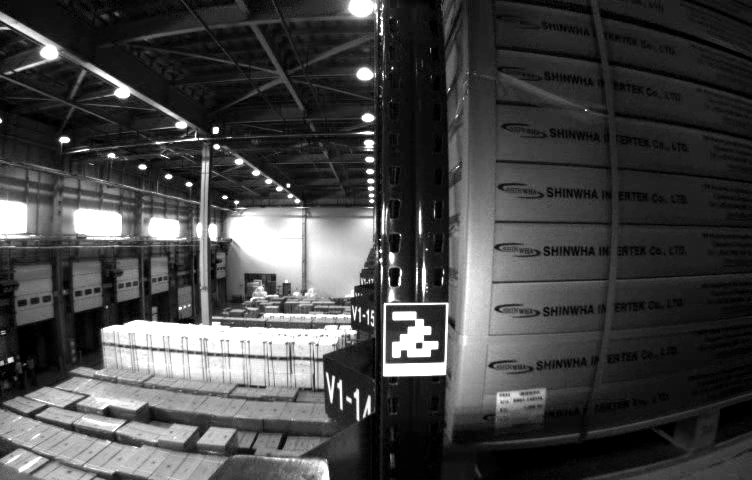True Barcode: (493, 389, 549, 437)
